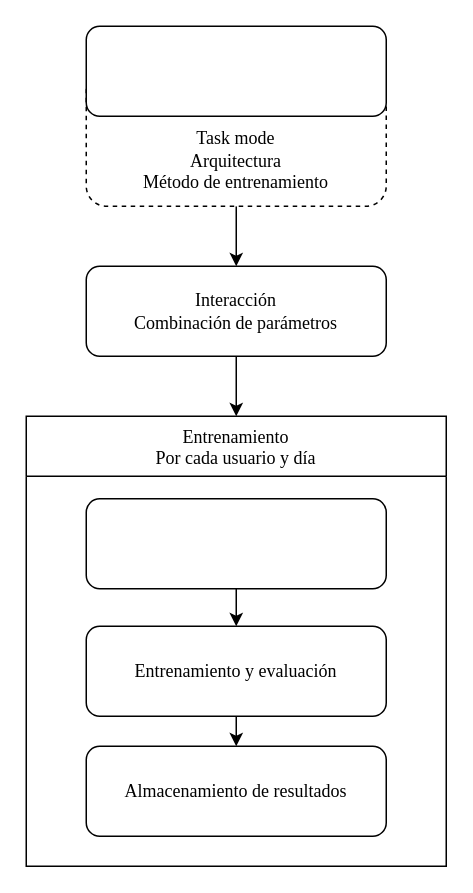
This 473x893 diagram has some shape labels left out. The shapes that lost their labels are listed below. From the top down, each one's box as (x1, y1, x2, y2) in pixels, then its label:
(85, 25, 386, 116): Experimento Conjunto de configuraciones
(85, 497, 386, 589): Inicialización del Modelo
